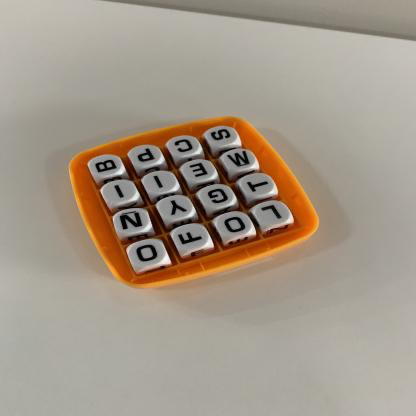b: (91, 155, 124, 177)
c: (169, 137, 200, 158)
e: (184, 160, 217, 183)
f: (173, 224, 211, 250)
g: (200, 185, 235, 208)
i: (103, 181, 138, 205), (145, 171, 177, 193)
l: (256, 201, 291, 227)
n: (114, 209, 151, 234)
o: (217, 212, 254, 239), (130, 240, 167, 267)
p: (130, 146, 163, 168)
s: (208, 127, 239, 148)
t: (242, 174, 276, 197)
w: (224, 150, 257, 171)
y: (160, 196, 195, 220)
